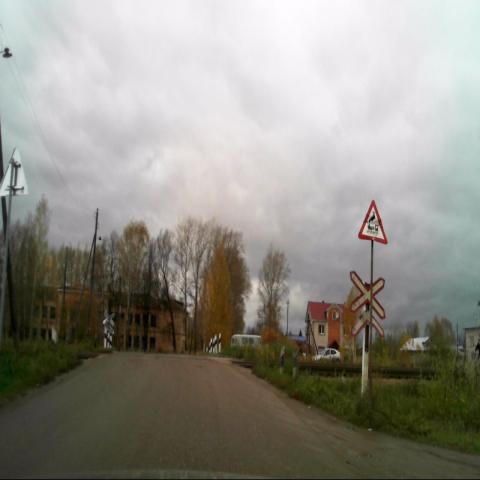1_2: (358, 198, 389, 246)
